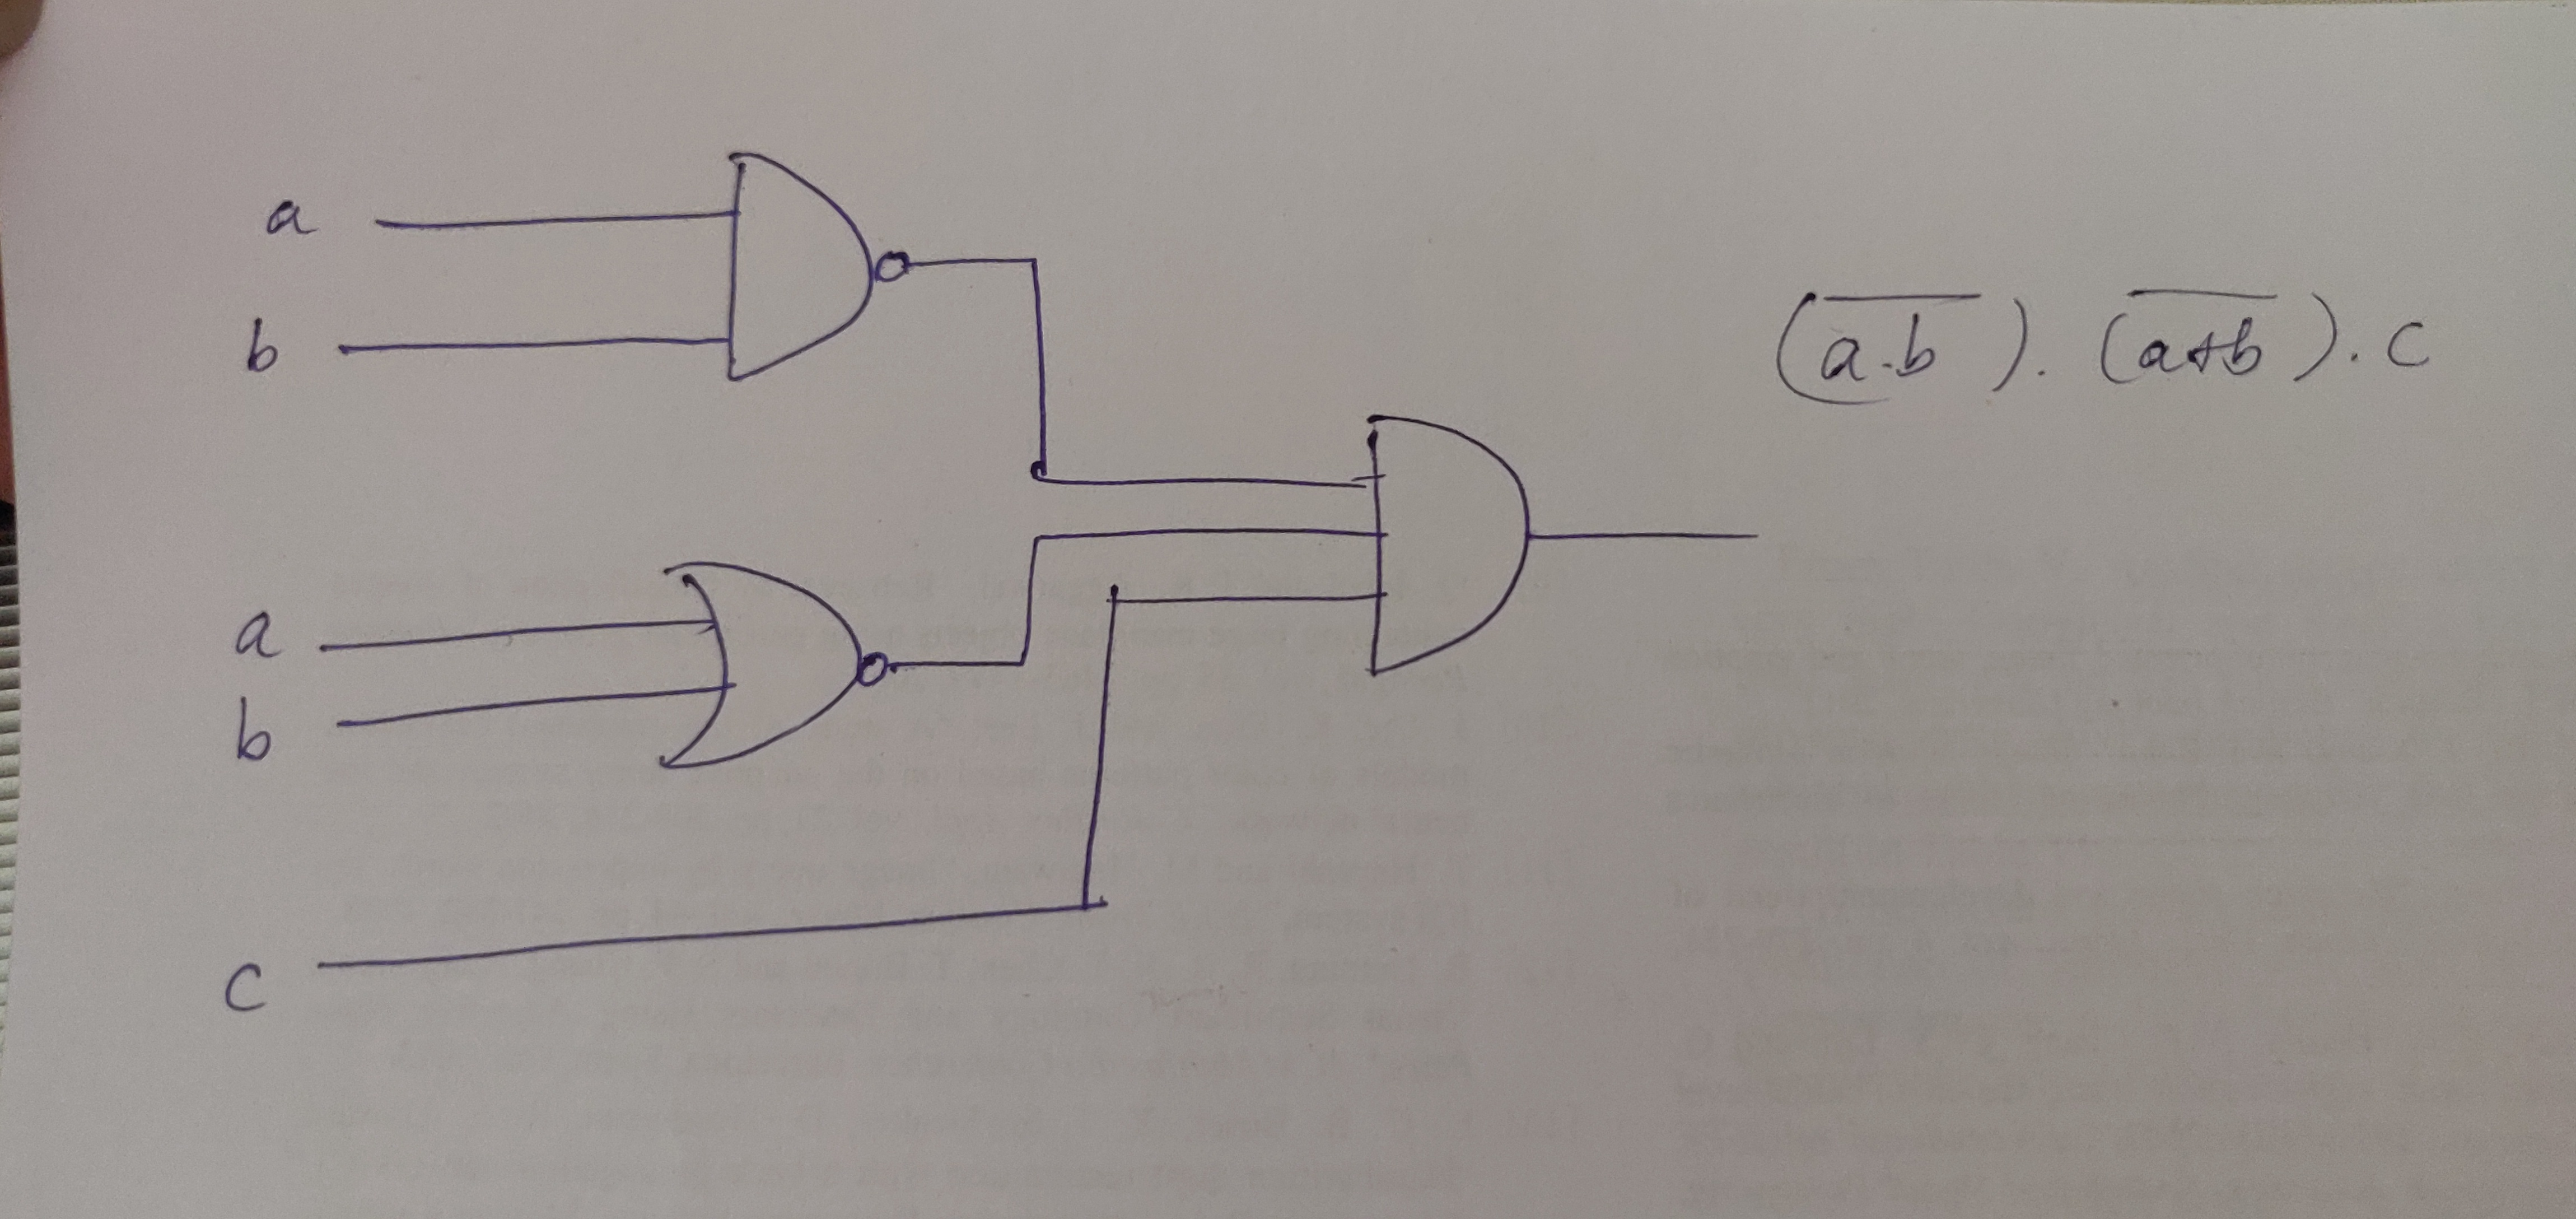and: (1255, 375, 1630, 695)
nand: (652, 102, 961, 394)
nor: (626, 524, 918, 790)
